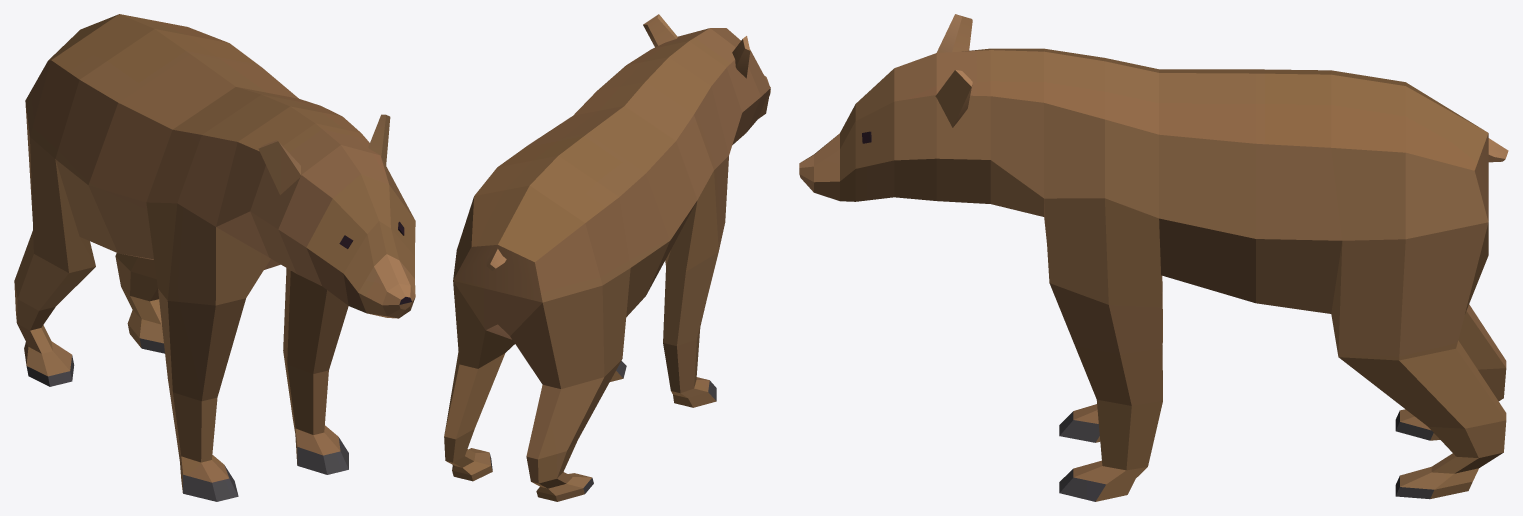
The model's file is animals-bear-010.glb.
3 views of the same model, side by side, from view 1: azimuth 30°, elevation 25°; view 2: azimuth 150°, elevation 25°; view 3: azimuth 270°, elevation 25° (orthographic). The views are drawn at different scales.
Parts seen in each view (by area): view 1: Geo_Bear; view 2: Geo_Bear; view 3: Geo_Bear.
Boxes of the visible parts, x1,y1,x2,y2 form: Geo_Bear: [14, 14, 415, 501]; Geo_Bear: [444, 14, 770, 501]; Geo_Bear: [799, 14, 1508, 501].
Bounding box in the file's own units: 75.63 × 140 × 215.
Materials: 1 (1 with a texture image).
